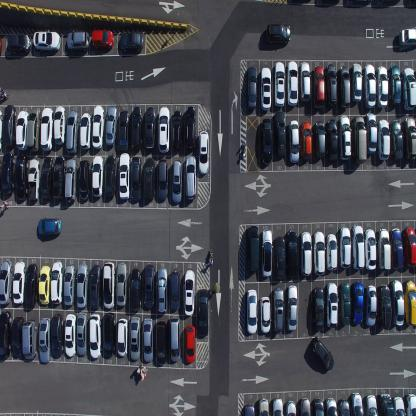car: (311, 336, 334, 372), (351, 114, 367, 163), (0, 150, 15, 197), (400, 67, 416, 111), (26, 107, 41, 152), (102, 261, 116, 309), (312, 229, 326, 277), (390, 278, 404, 326), (324, 281, 338, 329), (389, 118, 404, 162), (338, 114, 352, 161), (403, 279, 416, 329), (24, 262, 38, 308), (2, 103, 16, 149), (32, 30, 61, 52), (22, 318, 37, 360), (64, 157, 78, 202), (65, 109, 79, 154), (351, 224, 365, 269), (52, 154, 65, 202), (40, 107, 54, 151), (377, 228, 391, 272), (389, 228, 404, 269), (274, 109, 286, 160), (286, 228, 298, 279), (271, 286, 284, 333), (40, 156, 54, 199), (364, 284, 378, 327), (261, 227, 273, 277), (38, 318, 51, 364), (0, 260, 13, 306), (312, 64, 325, 110), (403, 115, 416, 161), (325, 117, 338, 163), (299, 230, 312, 276), (378, 283, 391, 329), (157, 266, 169, 315), (338, 225, 351, 270), (143, 263, 155, 311), (15, 153, 27, 201), (273, 60, 285, 108), (286, 59, 298, 107), (247, 224, 259, 272), (388, 65, 402, 106), (0, 309, 11, 361), (50, 260, 63, 304), (265, 22, 291, 44), (184, 104, 196, 151), (184, 269, 196, 316), (158, 105, 170, 152), (169, 315, 181, 362), (89, 313, 101, 360), (261, 118, 273, 165), (274, 235, 286, 282), (338, 65, 351, 108), (403, 225, 416, 268), (171, 158, 183, 204), (142, 318, 154, 364), (130, 155, 142, 201), (103, 312, 115, 358), (51, 312, 63, 358), (89, 264, 101, 310), (76, 263, 88, 309), (13, 259, 25, 305), (104, 153, 116, 199), (260, 65, 272, 111), (287, 118, 299, 164), (364, 63, 376, 109), (352, 280, 364, 326), (246, 288, 258, 334), (37, 216, 62, 238), (5, 32, 30, 54), (105, 104, 118, 146), (38, 264, 51, 306), (27, 158, 40, 200), (377, 118, 390, 160), (185, 155, 197, 200), (130, 107, 142, 152), (76, 311, 88, 356), (64, 312, 76, 357), (339, 281, 351, 326), (169, 270, 182, 311), (116, 317, 129, 358), (11, 316, 24, 357), (119, 152, 130, 200), (197, 288, 208, 336), (63, 263, 75, 307), (92, 154, 104, 198), (92, 105, 104, 149), (325, 63, 337, 107), (376, 65, 388, 109), (365, 111, 377, 155), (53, 105, 66, 145), (16, 110, 29, 150), (156, 318, 167, 365), (286, 284, 297, 331), (144, 106, 156, 149), (78, 158, 90, 201), (300, 119, 312, 162), (198, 129, 209, 175), (66, 29, 89, 51), (313, 286, 324, 332), (90, 28, 114, 49), (299, 60, 311, 102), (364, 228, 376, 270), (118, 32, 143, 52), (129, 268, 140, 313), (116, 261, 127, 306), (246, 64, 257, 109), (184, 324, 196, 364), (130, 314, 140, 362), (79, 111, 91, 151), (314, 119, 326, 159), (157, 157, 168, 200), (144, 157, 155, 199), (171, 109, 182, 151), (326, 234, 338, 272), (259, 296, 271, 333), (119, 109, 129, 152), (352, 61, 362, 103), (398, 26, 416, 48), (379, 391, 393, 416), (349, 391, 363, 416), (364, 394, 378, 416), (392, 395, 406, 415), (324, 396, 338, 415), (405, 392, 415, 416), (298, 397, 311, 415), (312, 396, 324, 415), (338, 398, 350, 416), (257, 397, 269, 415), (284, 400, 296, 415), (272, 397, 282, 415), (243, 403, 255, 415), (0, 108, 3, 152), (0, 35, 2, 57)
